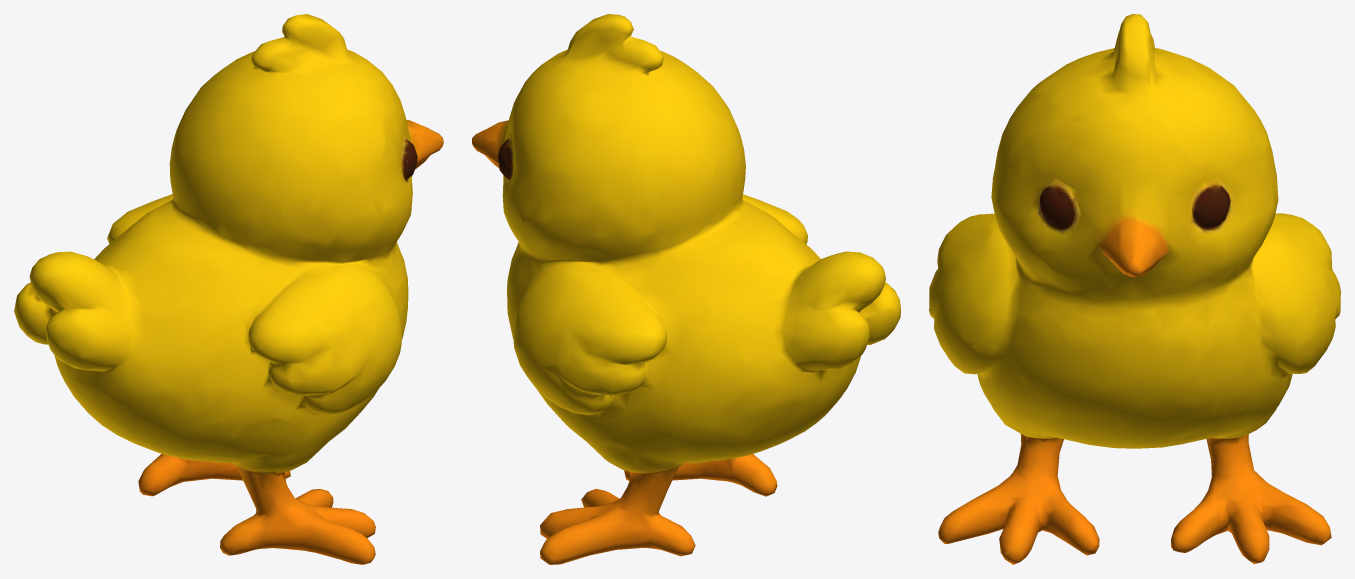
The model's file is chick.glb.
3 renders of one model, left to right at view 1: azimuth 30°, elevation 25°; view 2: azimuth 150°, elevation 25°; view 3: azimuth 270°, elevation 25°, orthographic. The views are drawn at different scales.
Visible parts, largest first — view 1: tripo_node_e1b646f1-3d98-4fa2-ab4f-7e0a355bc03d; view 2: tripo_node_e1b646f1-3d98-4fa2-ab4f-7e0a355bc03d; view 3: tripo_node_e1b646f1-3d98-4fa2-ab4f-7e0a355bc03d.
Boxes of the visible parts, bbox=[...] form: tripo_node_e1b646f1-3d98-4fa2-ab4f-7e0a355bc03d: bbox=[14, 14, 443, 564]; tripo_node_e1b646f1-3d98-4fa2-ab4f-7e0a355bc03d: bbox=[472, 14, 900, 564]; tripo_node_e1b646f1-3d98-4fa2-ab4f-7e0a355bc03d: bbox=[929, 14, 1340, 564].
Bounding box in the file's own units: 0.8854 × 1 × 0.6912.
Materials: 1 (1 with a texture image).
